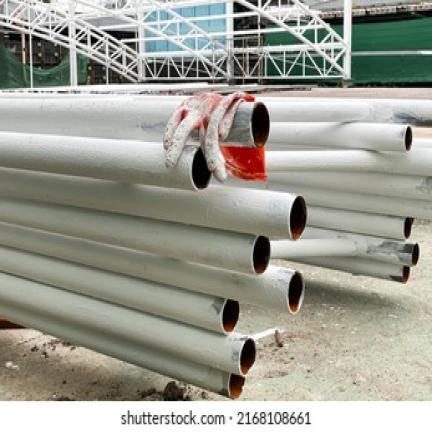besi_tidak_karat: (7, 224, 300, 311), (0, 274, 241, 371), (4, 304, 245, 399), (0, 247, 239, 334), (0, 170, 300, 237), (0, 200, 270, 274), (0, 133, 211, 191), (0, 95, 189, 155), (259, 98, 431, 126), (269, 172, 431, 200), (294, 186, 431, 219), (268, 122, 412, 152), (267, 149, 431, 175), (308, 206, 412, 239), (272, 240, 357, 262)
karat: (288, 274, 303, 313), (222, 300, 240, 331)
